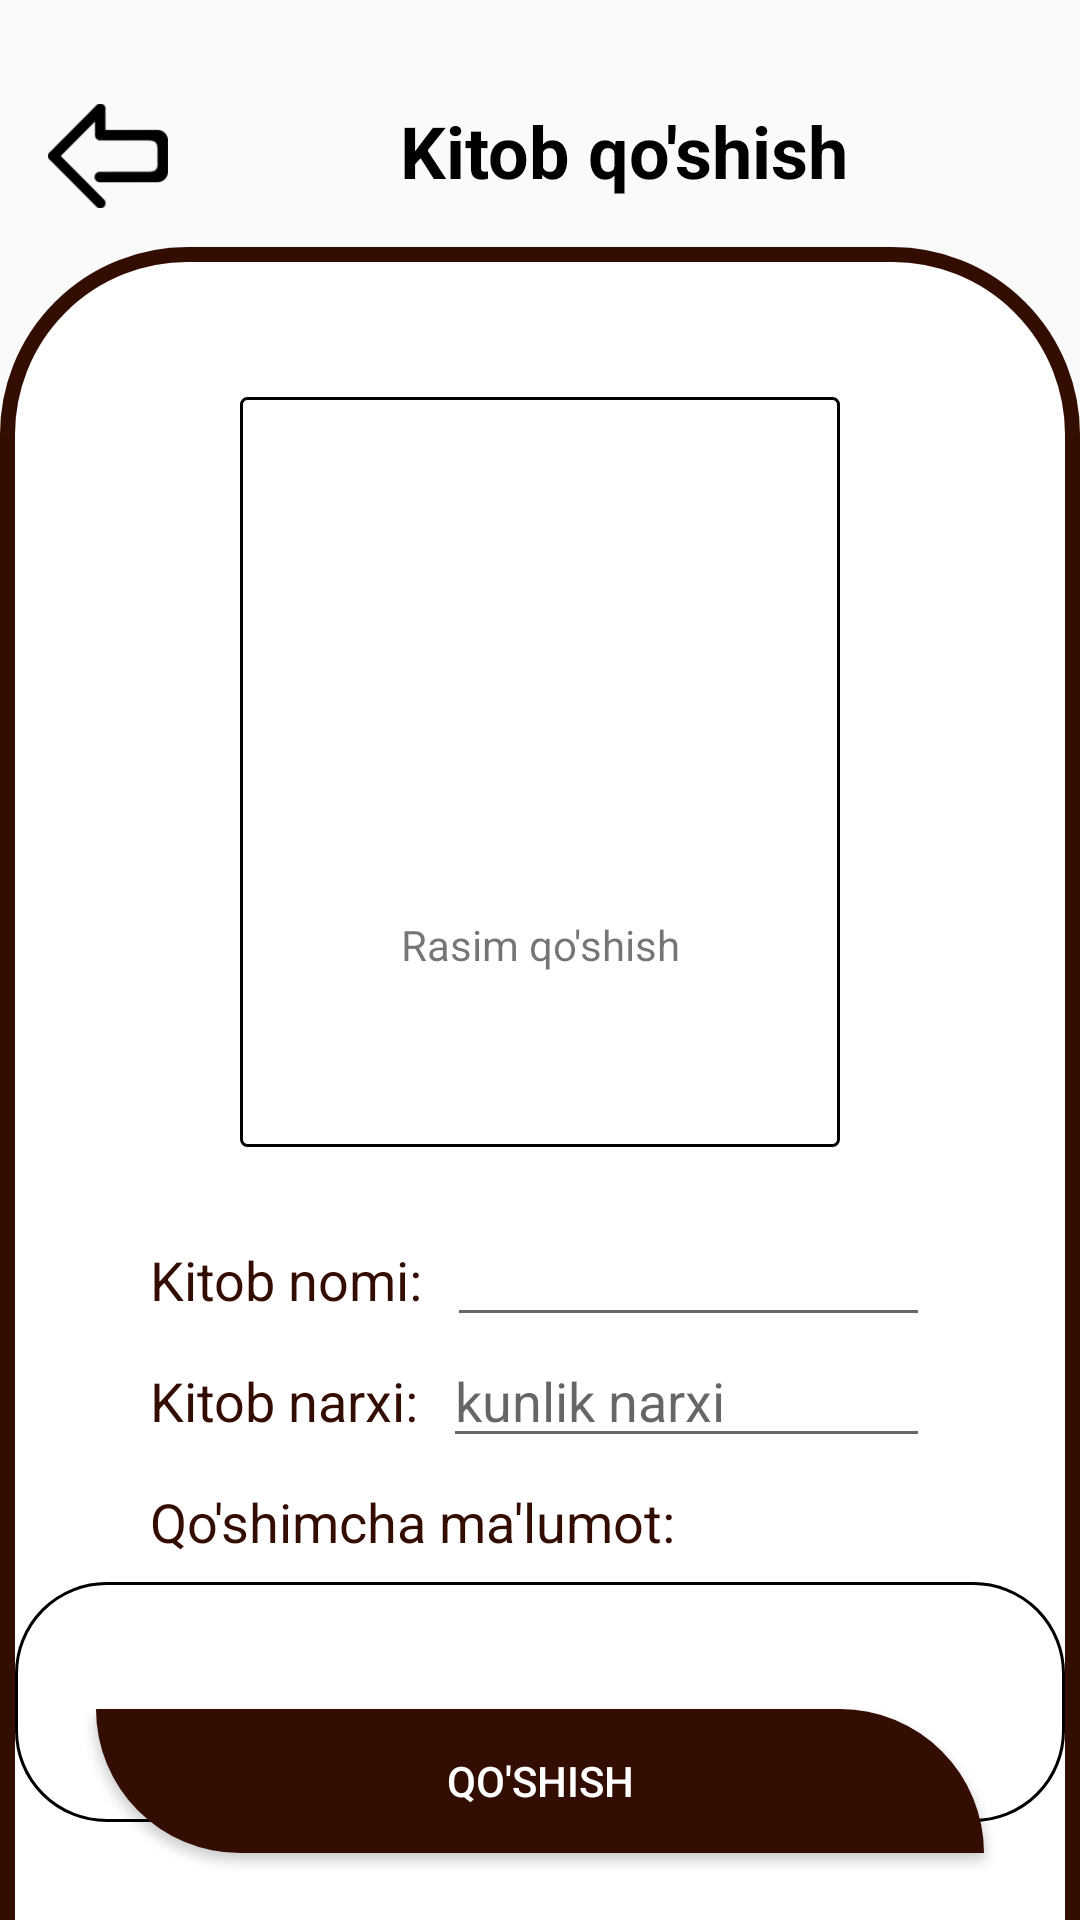

Locate icon controls on the screen. Image size 1080×1920, boxes as (x1, y1, x2, y2).
back: (48, 104, 168, 208)
